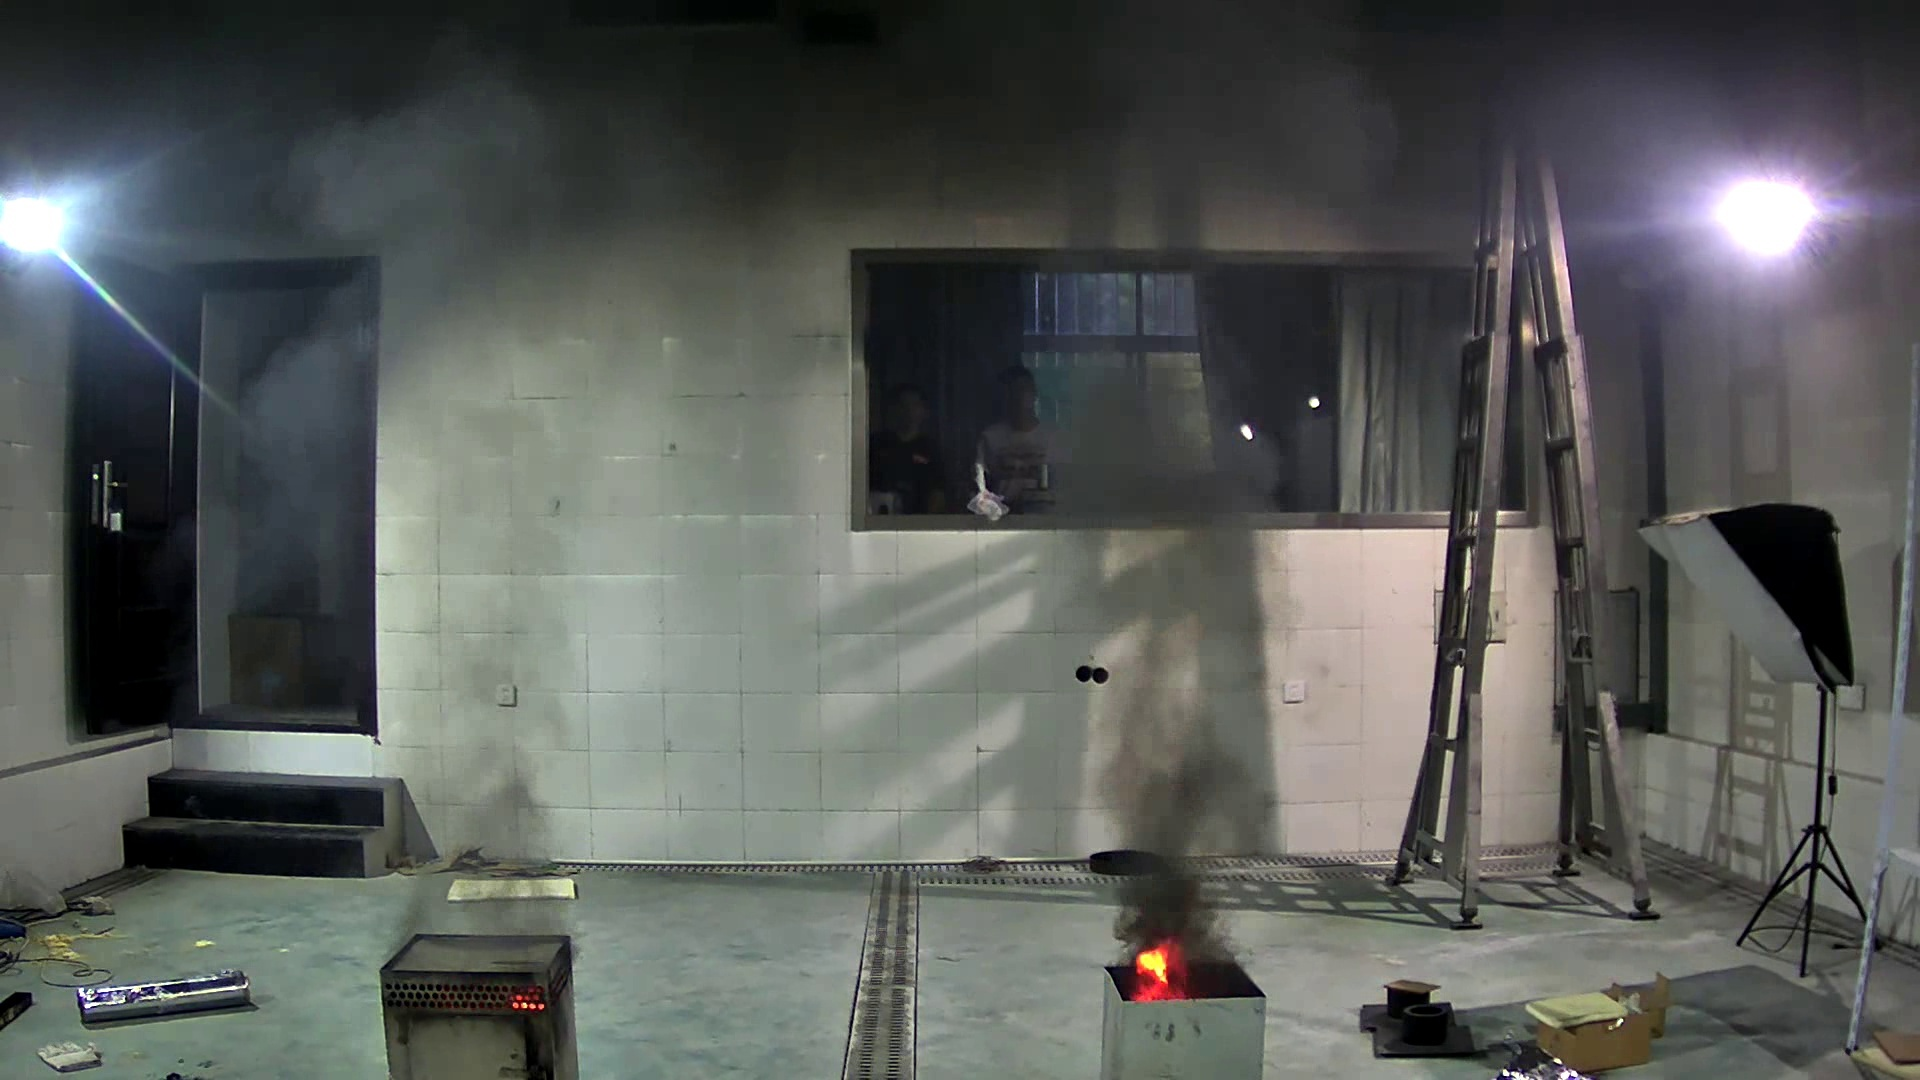smoke: (1006, 45, 1400, 886)
